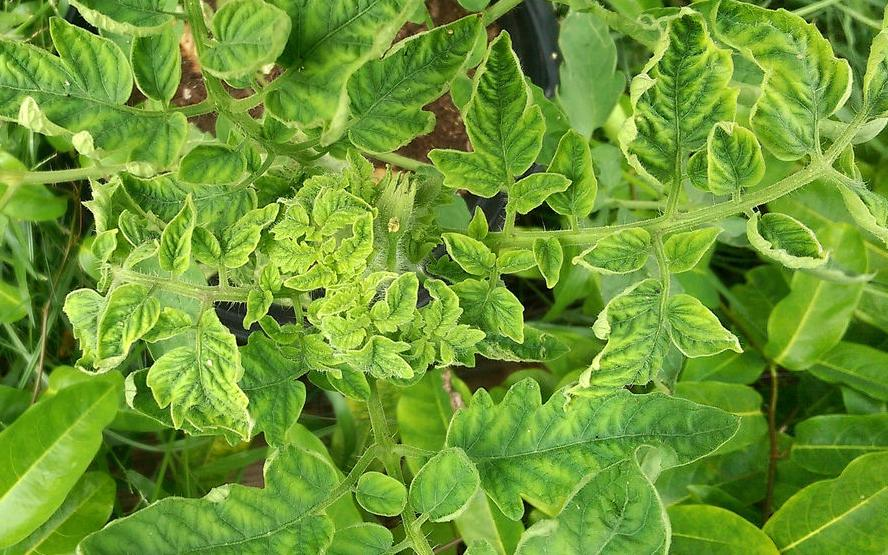Tomato leaf yellow virus: (433, 380, 756, 506), (0, 7, 199, 195), (77, 425, 347, 555), (411, 24, 589, 220), (226, 0, 441, 151), (0, 360, 132, 553), (699, 0, 850, 168), (765, 175, 888, 372), (618, 0, 731, 198), (332, 23, 491, 161), (497, 447, 679, 555), (754, 414, 888, 555), (574, 268, 703, 405), (140, 309, 258, 440), (187, 0, 299, 100), (744, 207, 834, 272), (573, 222, 658, 284), (154, 195, 202, 278), (221, 204, 282, 267), (371, 265, 424, 336), (307, 184, 379, 235), (436, 231, 502, 277), (531, 227, 567, 293)
